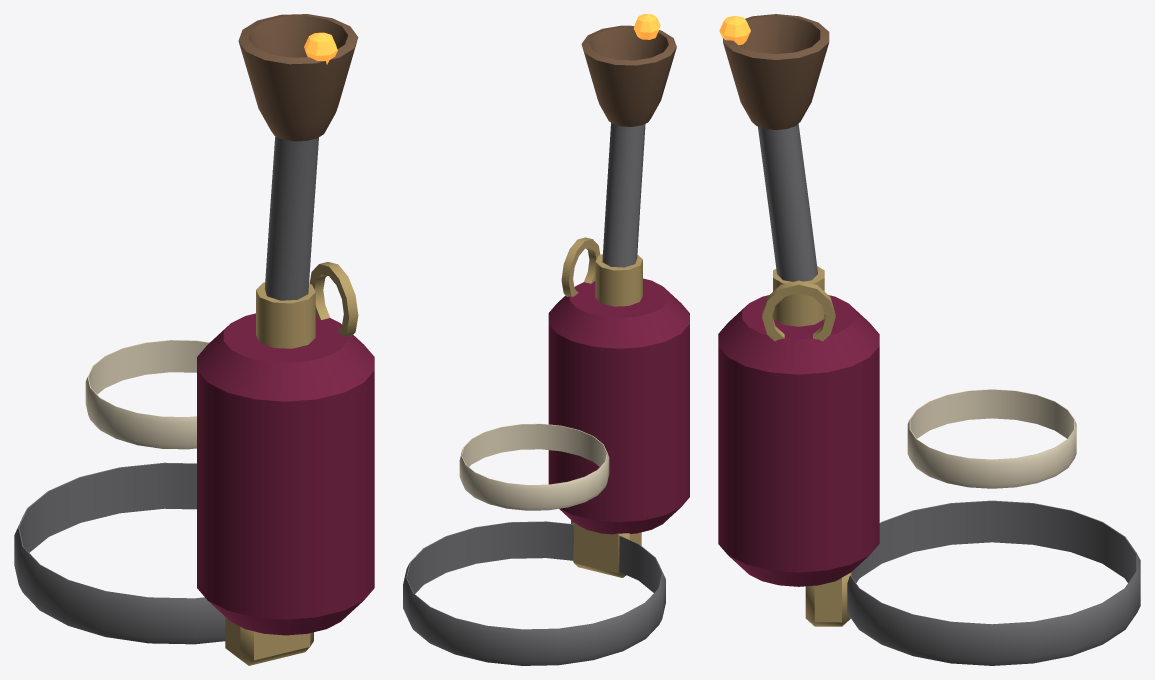
Rendered from Kit_Active_Flamer.glb.
The picture shows the model from 3 angles, left to right: view 1: azimuth 30°, elevation 25°; view 2: azimuth 150°, elevation 25°; view 3: azimuth 270°, elevation 25°; orthographic projection. The views are drawn at different scales.
Visible parts, largest first — view 1: Kit_Active_Flamer; view 2: Kit_Active_Flamer; view 3: Kit_Active_Flamer.
Boxes of the visible parts, bbox=[...] form: Kit_Active_Flamer: bbox=[14, 14, 374, 665]; Kit_Active_Flamer: bbox=[403, 14, 689, 665]; Kit_Active_Flamer: bbox=[718, 14, 1140, 665].
Bounding box in the file's own units: 0.132 × 0.29 × 0.1858.
